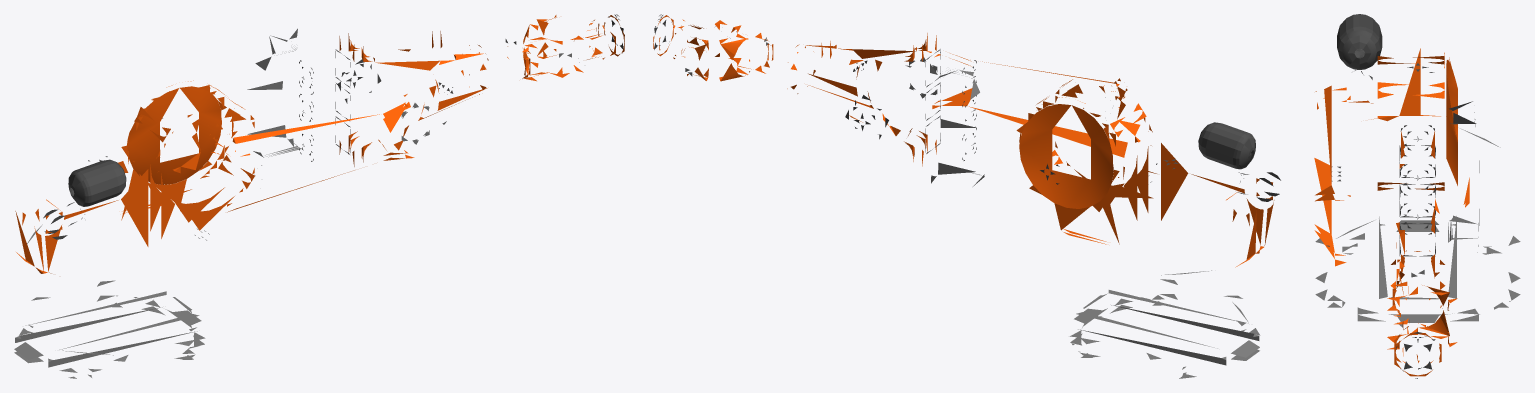
The picture shows the model from 3 angles, left to right: view 1: azimuth 30°, elevation 25°; view 2: azimuth 150°, elevation 25°; view 3: azimuth 270°, elevation 25°; orthographic projection. The views are drawn at different scales.
Parts seen in each view (by area): view 1: KR125-1.01, KR125-1.00, KR150-1.03, KR125.zyl, KR125-1.02, KR125-1.04; view 2: KR125-1.01, KR125-1.00, KR150-1.03, KR125.zyl, KR125-1.02, KR125-1.04; view 3: KR125-1.01, KR125-1.00, KR125.zyl, KR150-1.03, KR125-1.02, KR125-1.04, KR125-1.05, KR125-1.06.
Boxes of the visible parts, left/top/right/bottom form: KR125-1.01: left=15, top=80, right=254, bottom=273; KR125-1.00: left=14, top=224, right=205, bottom=378; KR150-1.03: left=247, top=28, right=516, bottom=166; KR125.zyl: left=43, top=159, right=126, bottom=239; KR125-1.02: left=173, top=94, right=429, bottom=212; KR125-1.04: left=507, top=15, right=598, bottom=81; KR125-1.01: left=1016, top=79, right=1274, bottom=267; KR125-1.00: left=1069, top=270, right=1260, bottom=378; KR150-1.03: left=764, top=33, right=984, bottom=186; KR125.zyl: left=1198, top=122, right=1280, bottom=201; KR125-1.02: left=909, top=51, right=1140, bottom=157; KR125-1.04: left=687, top=20, right=773, bottom=81; KR125-1.01: left=1332, top=48, right=1469, bottom=207; KR125-1.00: left=1315, top=128, right=1520, bottom=327; KR125.zyl: left=1337, top=14, right=1382, bottom=79; KR150-1.03: left=1326, top=101, right=1479, bottom=299; KR125-1.02: left=1314, top=85, right=1373, bottom=266; KR125-1.04: left=1387, top=281, right=1457, bottom=349; KR125-1.05: left=1394, top=320, right=1441, bottom=376; KR125-1.06: left=1396, top=332, right=1435, bottom=378.
Size of the model in its own units: 3120 by 812 by 1221.
